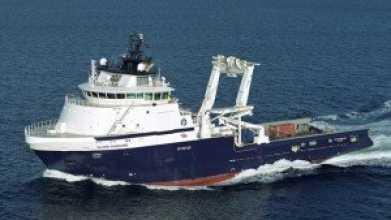otherboat: (17, 32, 380, 185)
